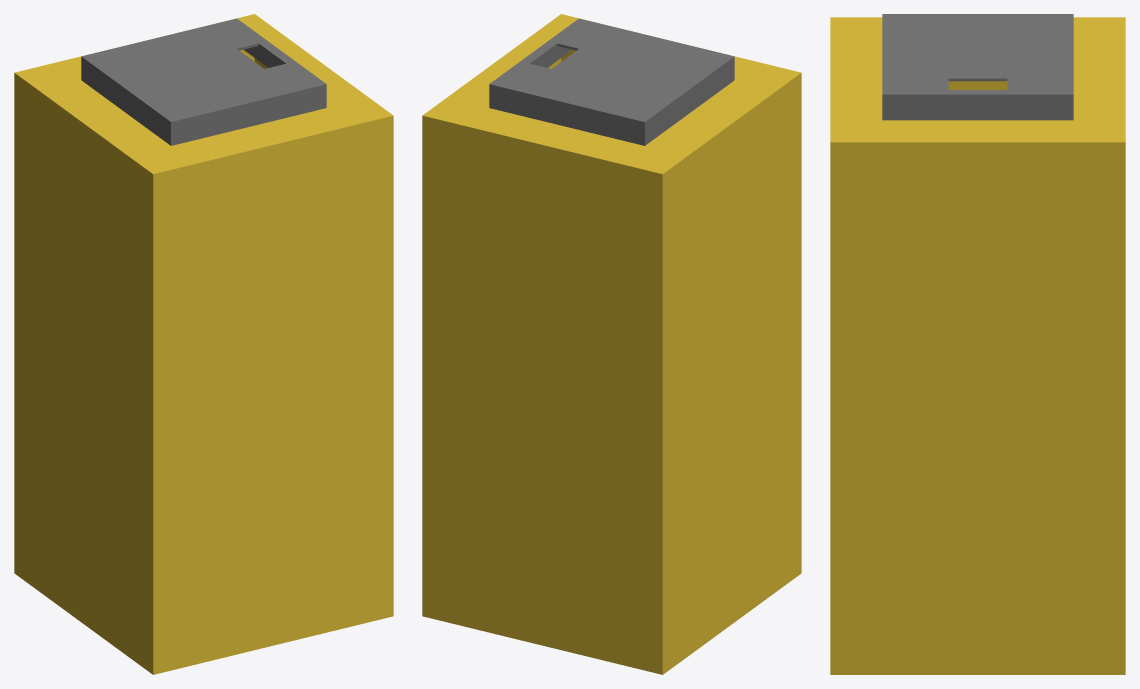
The model's file is Royco.fbx.
The picture shows the model from 3 angles, left to right: view 1: azimuth 30°, elevation 25°; view 2: azimuth 150°, elevation 25°; view 3: azimuth 270°, elevation 25°; orthographic projection. The views are drawn at different scales.
Parts seen in each view (by area): view 1: Cube; view 2: Cube; view 3: Cube.
Part boxes in pixels (left/top/right/bottom): Cube: left=14, top=14, right=393, bottom=674; Cube: left=422, top=14, right=801, bottom=674; Cube: left=830, top=14, right=1125, bottom=674.
Size of the model in its own units: 200 by 417 by 200.
